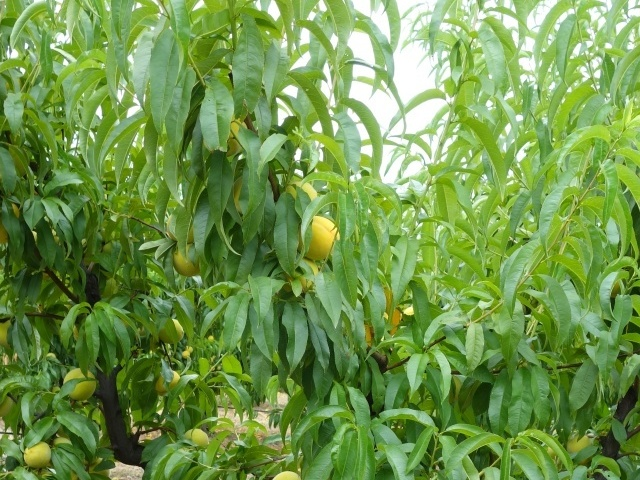peach: (296, 215, 344, 265), (168, 238, 204, 279), (60, 366, 99, 402), (21, 437, 54, 472), (156, 316, 188, 346), (564, 434, 596, 462), (179, 424, 212, 451), (154, 368, 183, 396)
